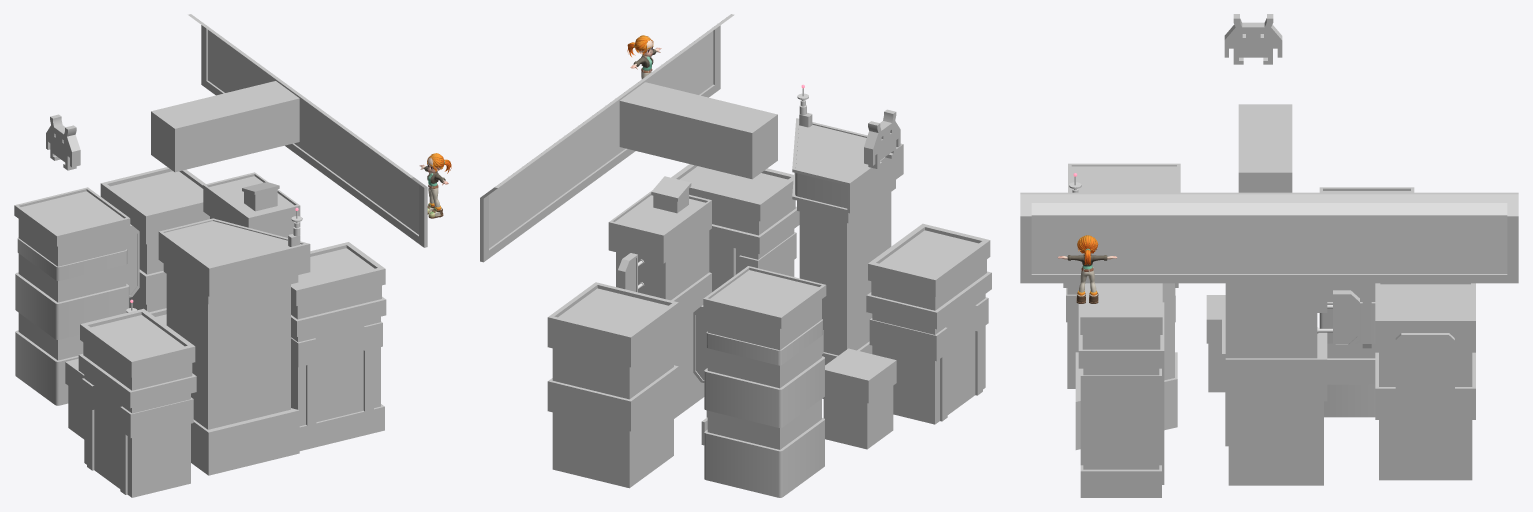
File: shooting_R.fbx
The picture shows the model from 3 angles, left to right: view 1: azimuth 30°, elevation 25°; view 2: azimuth 150°, elevation 25°; view 3: azimuth 270°, elevation 25°; orthographic projection. The views are drawn at different scales.
Visible parts, largest first — view 1: Cube.368, Cube.428, Cube.425, Cube.330, Cube.421, Cube.415, Cube.397, Cube.418, Cube.369, Cube.401, Cube.405, Cube.370 (+21 smaller); view 2: Cube.415, Cube.416, Cube.428, Cube.425, Cube.368, Cube.330, Cube.421, Cube.426, Cube.407, Cube.418, Cube.405, Cube.401 (+23 smaller); view 3: Cube.425, Cube.413, Cube.423, Cube.415, Cube.416, Cube.417, Cube.397, Cube.428, Cube.412, Cube.370, Cube.330, Cube.394 (+17 smaller).
Boxes of the visible parts, bbox=[...] form: Cube.368: bbox=[166, 274, 290, 429]; Cube.428: bbox=[151, 81, 299, 172]; Cube.425: bbox=[208, 30, 418, 234]; Cube.330: bbox=[158, 218, 310, 296]; Cube.421: bbox=[84, 375, 190, 497]; Cube.415: bbox=[100, 167, 209, 274]; Cube.397: bbox=[291, 316, 380, 426]; Cube.418: bbox=[80, 308, 195, 377]; Cube.369: bbox=[191, 408, 299, 475]; Cube.401: bbox=[14, 187, 130, 246]; Cube.405: bbox=[15, 272, 129, 339]; Cube.370: bbox=[291, 242, 385, 306]; Cube.415: bbox=[547, 282, 678, 399]; Cube.416: bbox=[547, 365, 678, 488]; Cube.428: bbox=[619, 82, 777, 179]; Cube.425: bbox=[489, 31, 713, 248]; Cube.368: bbox=[799, 192, 891, 355]; Cube.330: bbox=[792, 118, 903, 213]; Cube.421: bbox=[872, 294, 985, 424]; Cube.426: bbox=[823, 348, 896, 449]; Cube.407: bbox=[704, 418, 824, 497]; Cube.418: bbox=[868, 223, 990, 296]; Cube.405: bbox=[704, 356, 824, 427]; Cube.401: bbox=[703, 266, 826, 328]; Cube.425: bbox=[1031, 203, 1507, 273]; Cube.413: bbox=[1225, 332, 1327, 485]; Cube.423: bbox=[1020, 192, 1518, 283]; Cube.415: bbox=[1375, 283, 1475, 386]; Cube.416: bbox=[1375, 352, 1475, 480]; Cube.417: bbox=[1395, 333, 1454, 431]; Cube.397: bbox=[1083, 368, 1159, 469]; Cube.428: bbox=[1238, 104, 1292, 192]; Cube.412: bbox=[1225, 313, 1317, 358]; Cube.370: bbox=[1080, 283, 1162, 334]; Cube.330: bbox=[1068, 163, 1180, 192]; Cube.394: bbox=[1225, 283, 1327, 312].
Bounding box in the file's own units: 1186 × 1065 × 1381.
